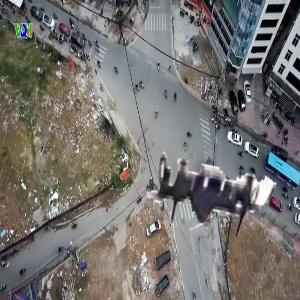drone: (129, 112, 285, 268)
